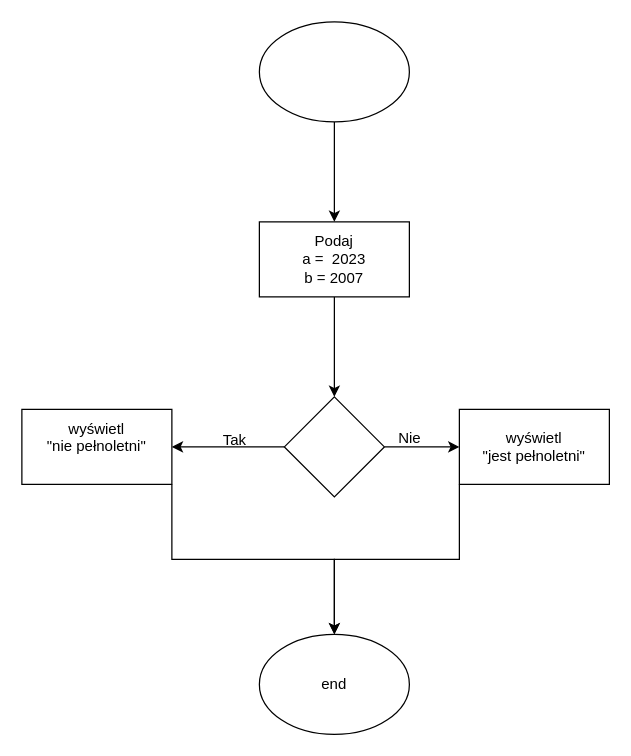
Some shapes in this 631 by 756 pixel diagram are drawn without their labels. The centre of each missing label's shape, as x and y in pixels:
"a-b<18" goes at [333,446].
"start" goes at [333,71].
